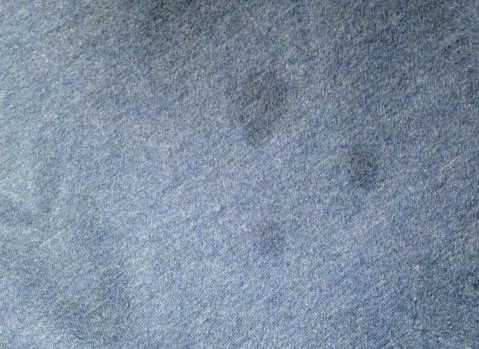stain: (225, 59, 294, 143), (248, 214, 296, 272), (343, 139, 389, 199)
